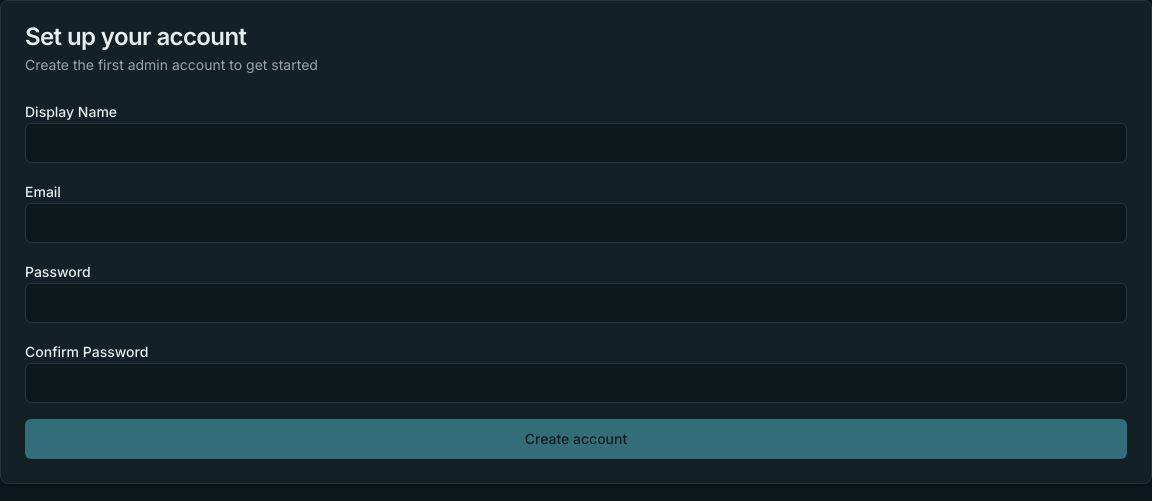
Test: RegisterForm (first-run setup) › shows the check-email screen when verification is required
This screenshot has width=1152, height=501.
Type "Admin" into the field labelled "Display Name". click: coordinates (576, 143)
box: [25,123,1127,163]
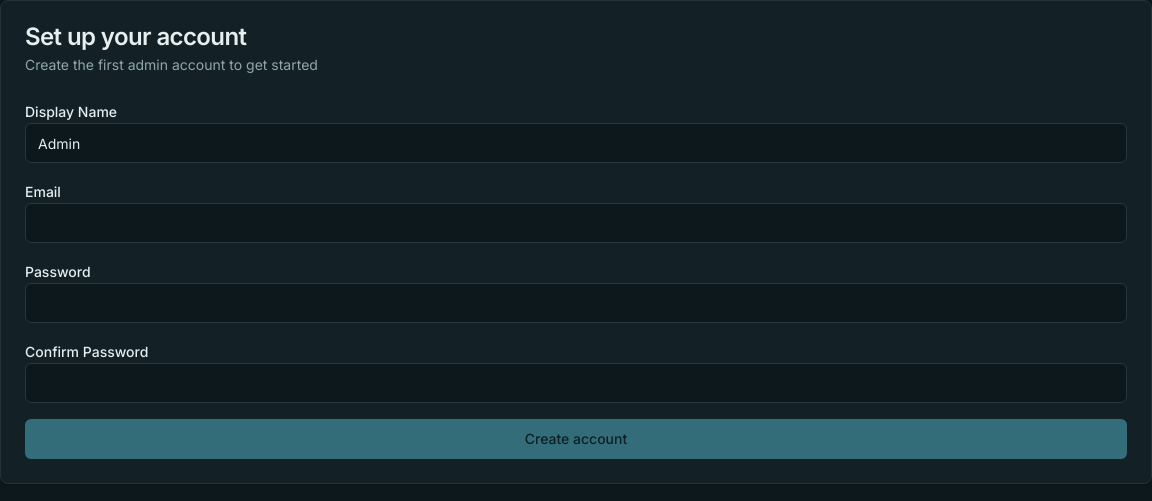
Type "admin@example.com" into the field labelled "Email". click: coordinates (576, 223)
box: [25,203,1127,243]
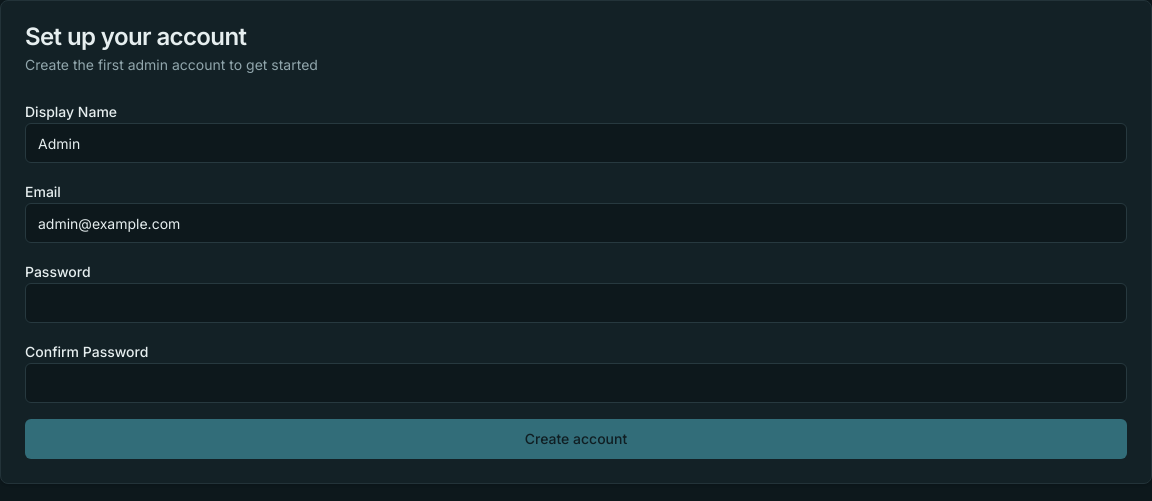
Type "SecurePass1!" into the password field labelled "Password". click: coordinates (576, 303)
box: [25,283,1127,323]
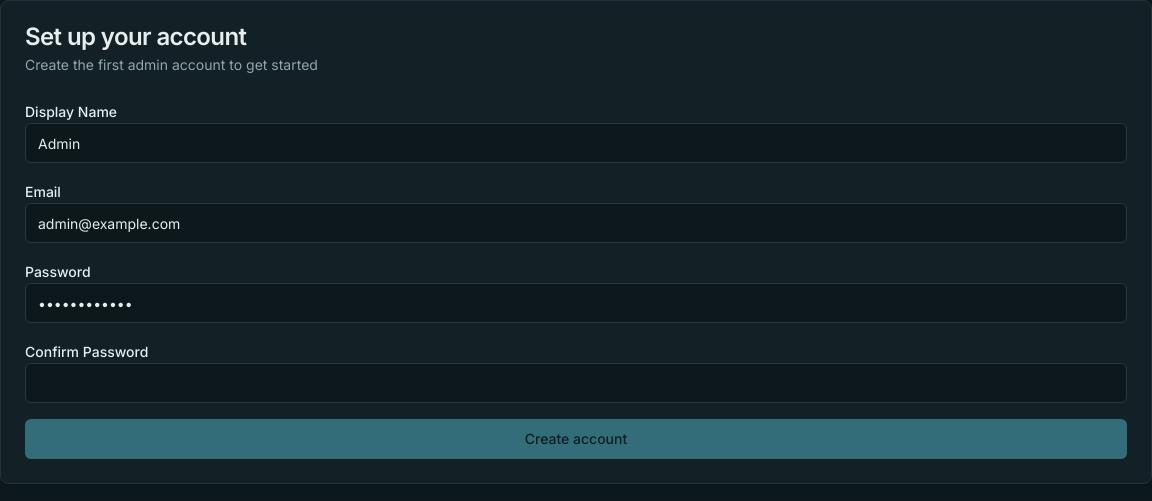
Type "SecurePass1!" into the password field labelled "Confirm Password". click: coordinates (576, 383)
box: [25,363,1127,403]
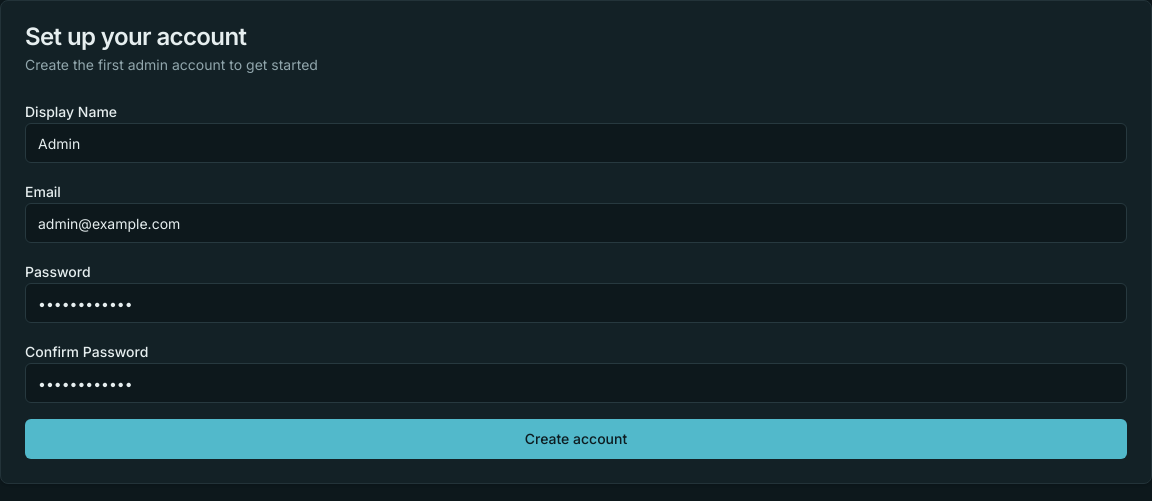
Submit the form
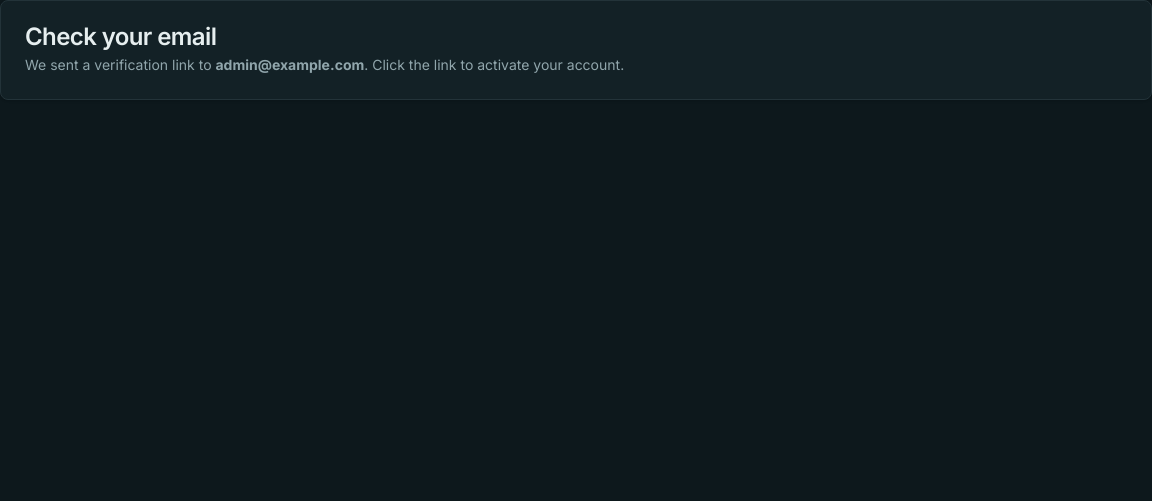
Check: the heading "Check your email" is shown, box [25,22,216,51]
Check: the text "admin@example.com" is shown, box [216,56,364,73]
